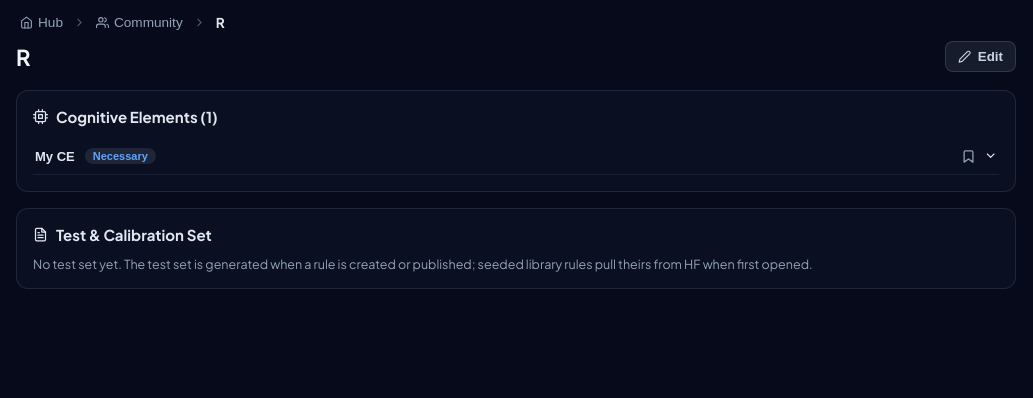
Scenario: RulePage — cognitive elements › expands a CE to reveal definition and examples, then collapses
expect the text "The definition text" is not shown: met
Click the button "My CE Necessary". click: (55, 156)
box: [33, 138, 999, 174]
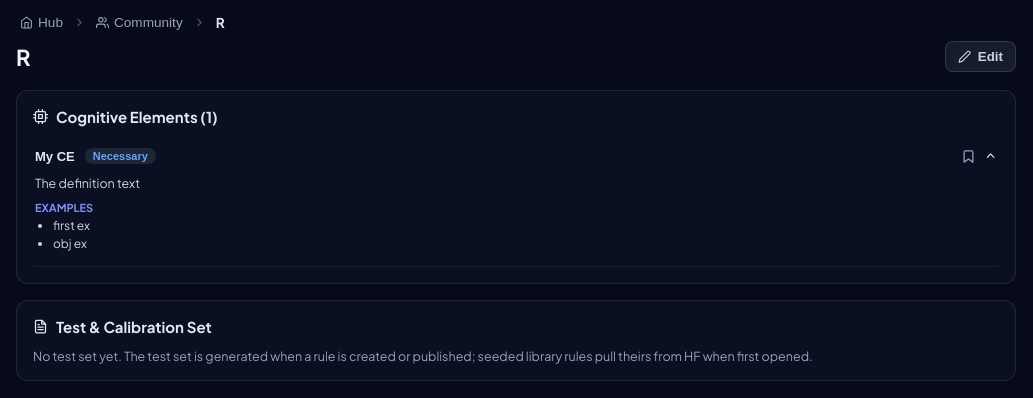
expect the text "The definition text" is shown: met, box [35, 175, 140, 191]
expect the text "Examples" is shown: met, box [35, 201, 93, 214]
expect the list item "first ex" is shown: met, box [53, 218, 90, 233]
Note: Collapse again.
Click the button "My CE Necessary". click: (55, 156)
box: [33, 138, 999, 174]
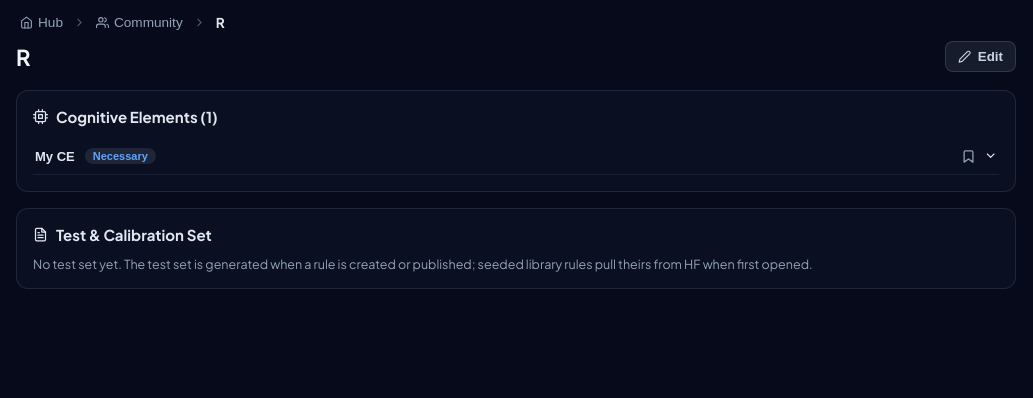
expect the text "The definition text" is gone: met
